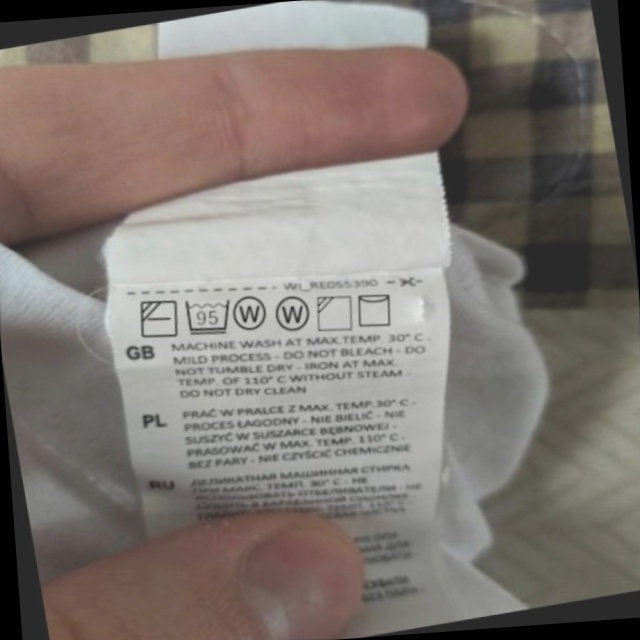95C: (178, 289, 238, 343)
dry_flat_in_shade: (132, 291, 185, 346)
line_dry: (350, 284, 401, 335)
shade_dry: (310, 287, 360, 339)
wet_clean: (227, 286, 275, 338), (269, 289, 317, 340)
